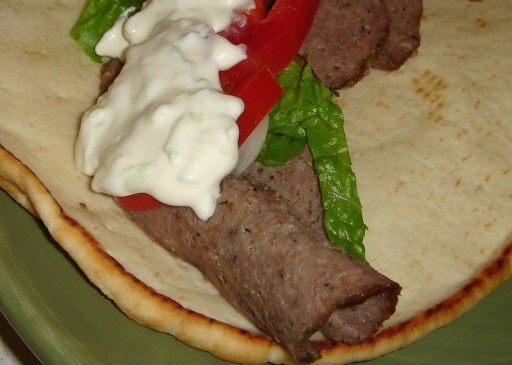background: (0, 0, 410, 208)
